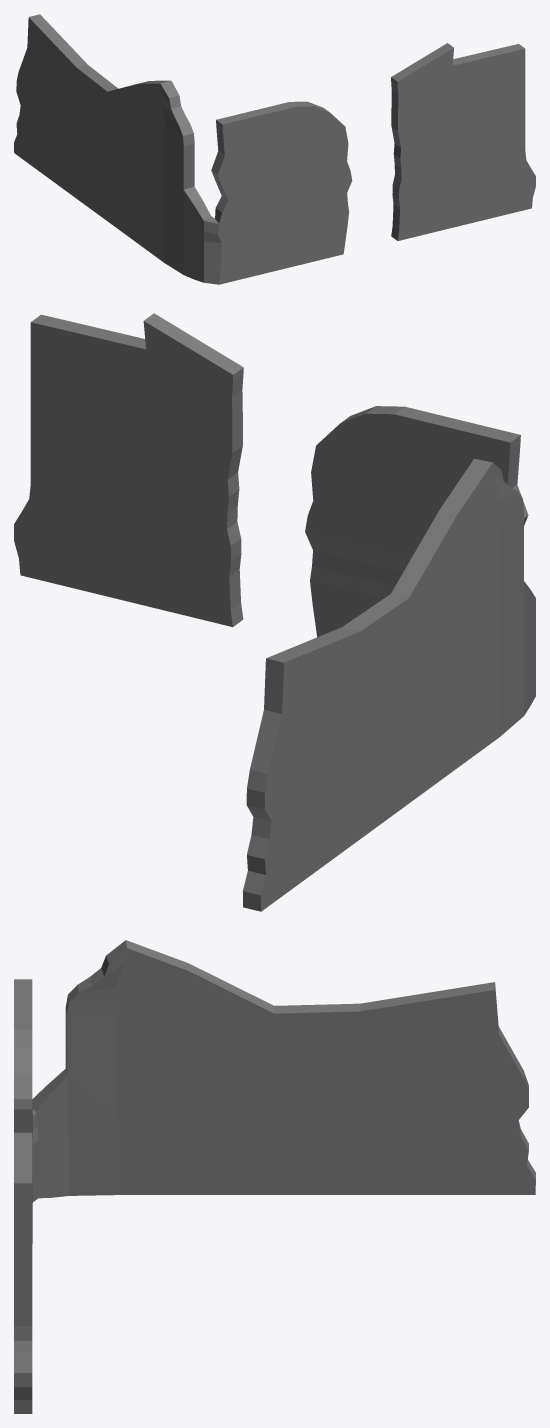
The model's file is Ruins Corner.fbx.
3 renders of one model, top to bottom at view 1: azimuth 30°, elevation 25°; view 2: azimuth 150°, elevation 25°; view 3: azimuth 270°, elevation 25°, orthographic. The views are drawn at different scales.
Visible parts, largest first — view 1: Ruins Corner; view 2: Ruins Corner; view 3: Ruins Corner.
Boxes of the visible parts, <box> form: Ruins Corner: <box>14,14,535,284</box>; Ruins Corner: <box>14,313,535,911</box>; Ruins Corner: <box>14,940,535,1413</box>.
Size of the model in its own units: 88.13 by 45.12 by 84.75.
